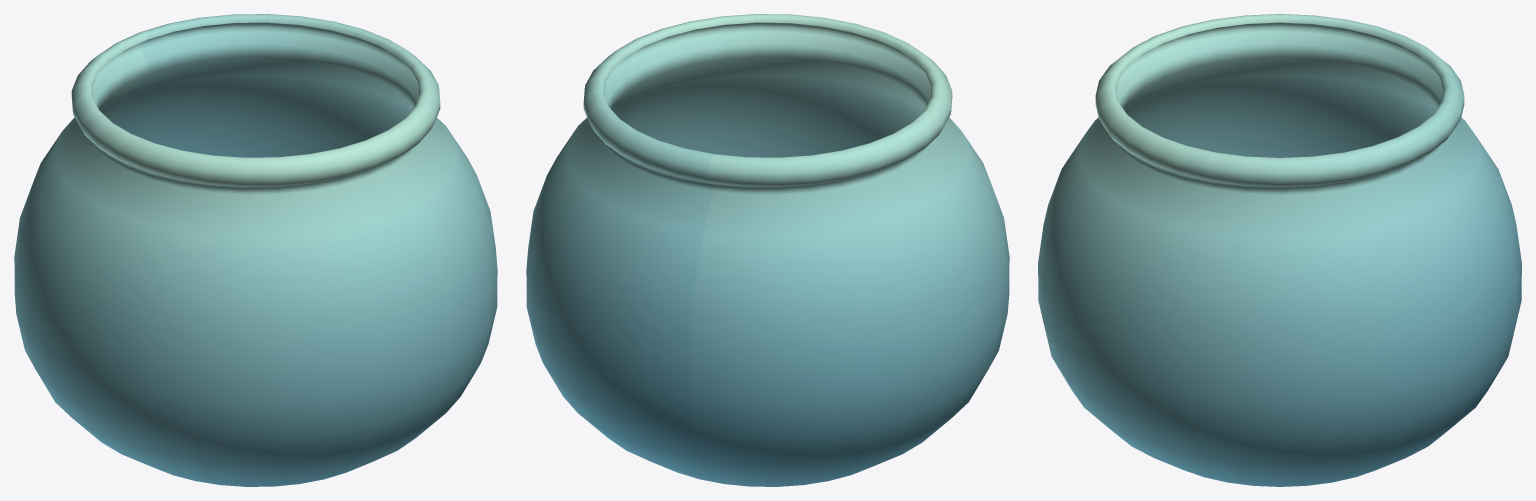
The model's file is aquarium.fbx.
3 views of the same model, side by side, from view 1: azimuth 30°, elevation 25°; view 2: azimuth 150°, elevation 25°; view 3: azimuth 270°, elevation 25° (orthographic).
Parts seen in each view (by area): view 1: aquarium; view 2: aquarium; view 3: aquarium.
Boxes of the visible parts, box(x1,y1,x2,y2) form: aquarium: box(14, 14, 497, 486); aquarium: box(526, 14, 1009, 486); aquarium: box(1038, 14, 1521, 486).
Bounding box in the file's own units: 6.32 × 4.96 × 6.32.
1 material, 1 textured.
